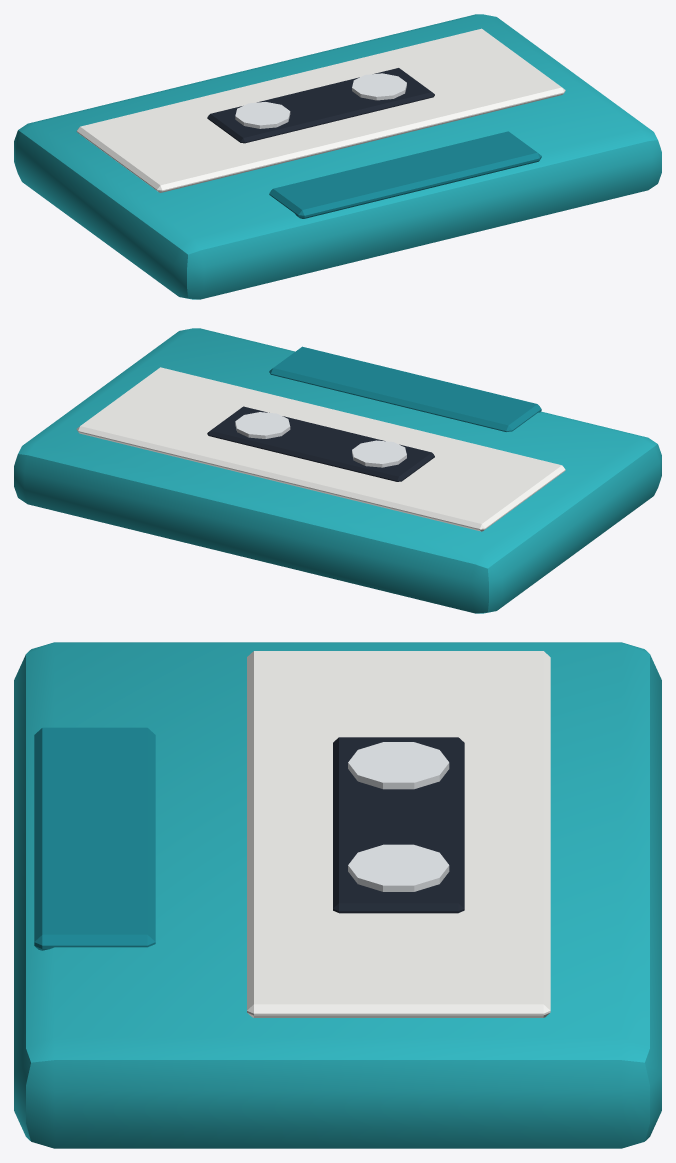
The model's file is fita_cassete.glb.
The picture shows the model from 3 angles, top to bottom: view 1: azimuth 30°, elevation 25°; view 2: azimuth 150°, elevation 25°; view 3: azimuth 270°, elevation 25°; orthographic projection. The views are drawn at different scales.
Visible parts, largest first — view 1: fita_cassete; view 2: fita_cassete; view 3: fita_cassete.
Boxes of the visible parts, x1,y1,x2,y2 form: fita_cassete: (14, 14, 661, 299); fita_cassete: (14, 328, 661, 613); fita_cassete: (14, 642, 661, 1148).
Size of the model in its own units: 0.1 by 0.0149 by 0.064.
1 material, 1 textured.
